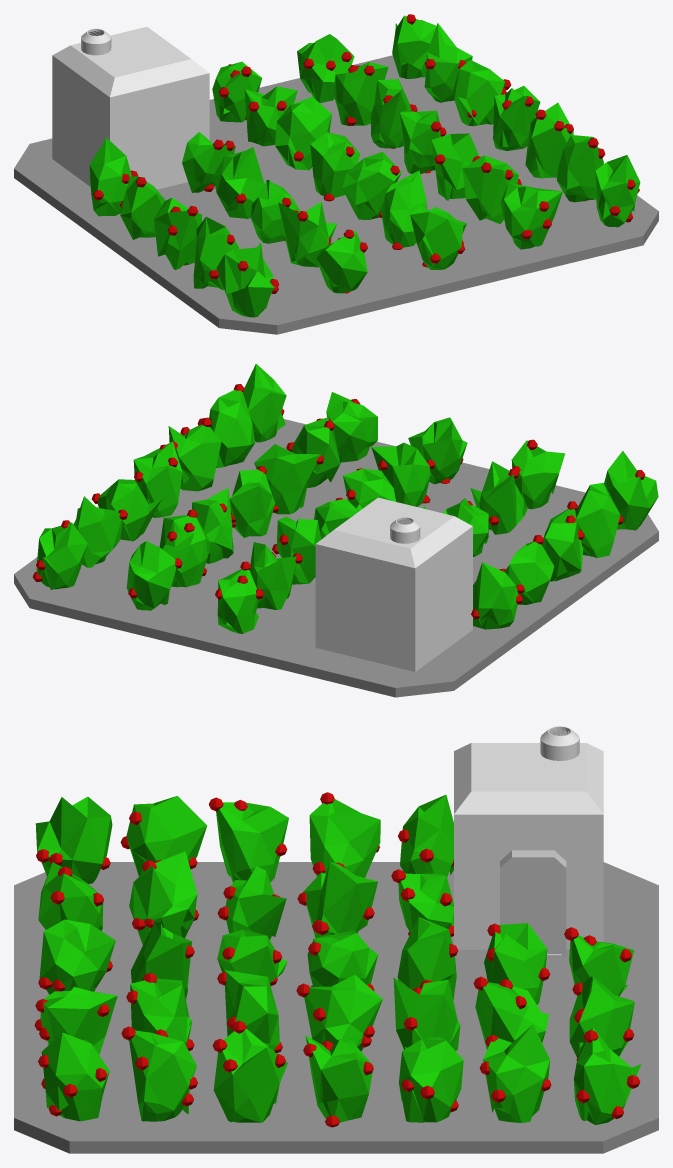
Rendered from Farm.fbx.
3 views of the same model, one above another, from view 1: azimuth 30°, elevation 25°; view 2: azimuth 150°, elevation 25°; view 3: azimuth 270°, elevation 25° (orthographic). The views are drawn at different scales.
Visible parts, largest first — view 1: Cube_18, Cube_19, Sphere_6, Sphere_4, Sphere_20, Sphere_24, Sphere_8, Sphere_0, Sphere_5, Sphere_18, Sphere_17, Sphere_1 (+22 smaller); view 2: Cube_18, Cube_19, Sphere_27, Sphere_3, Sphere_21, Sphere_6, Sphere_12, Sphere_20, Sphere_29, Sphere_11, Sphere_9, Sphere_13 (+20 smaller); view 3: Cube_18, Cube_19, Cube_4, Sphere_9, Sphere_30, Sphere_12, Sphere_6, Sphere_10, Sphere_5, Sphere_1, Sphere_0, Sphere_17 (+23 smaller).
Boxes of the visible parts, x1,y1,x2,y2 form: Cube_18: (14,55,658,334); Cube_19: (52,26,209,189); Sphere_6: (216,242,274,317); Sphere_4: (275,97,331,170); Sphere_20: (501,182,562,249); Sphere_24: (213,147,264,219); Sphere_8: (342,152,401,219); Sphere_0: (410,206,466,269); Sphere_5: (452,60,505,126); Sphere_18: (462,155,518,224); Sphere_17: (278,201,336,267); Sphere_1: (595,155,640,227); Cube_18: (14,419,658,697); Cube_19: (315,497,472,671); Sphere_27: (254,444,321,514); Sphere_3: (36,522,87,589); Sphere_21: (126,541,176,610); Sphere_6: (604,451,658,530); Sphere_12: (209,389,255,467); Sphere_20: (326,392,377,462); Sphere_29: (159,515,210,587); Sphere_11: (371,442,430,506); Sphere_9: (168,424,221,491); Sphere_13: (575,482,620,557); Cube_18: (14,862,658,1153); Cube_19: (454,743,603,949); Cube_4: (500,850,566,956); Sphere_9: (213,1028,287,1122); Sphere_30: (483,1024,549,1122); Sphere_12: (129,1030,196,1121); Sphere_6: (35,796,112,883); Sphere_10: (216,802,288,882); Sphere_5: (399,1036,463,1122); Sphere_1: (41,1032,109,1121); Sphere_0: (39,919,115,994); Sphere_17: (129,851,197,944).
Size of the model in its own units: 618 by 206 by 603.
